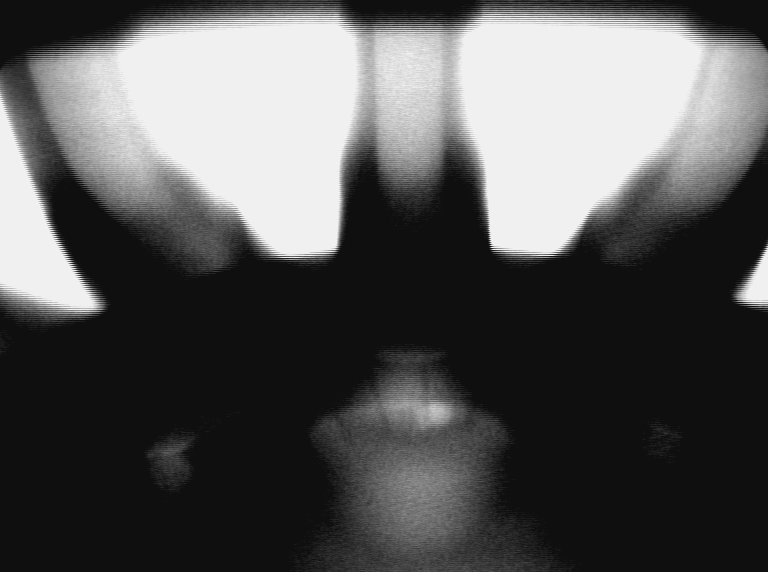defect: (405, 397, 464, 432)
